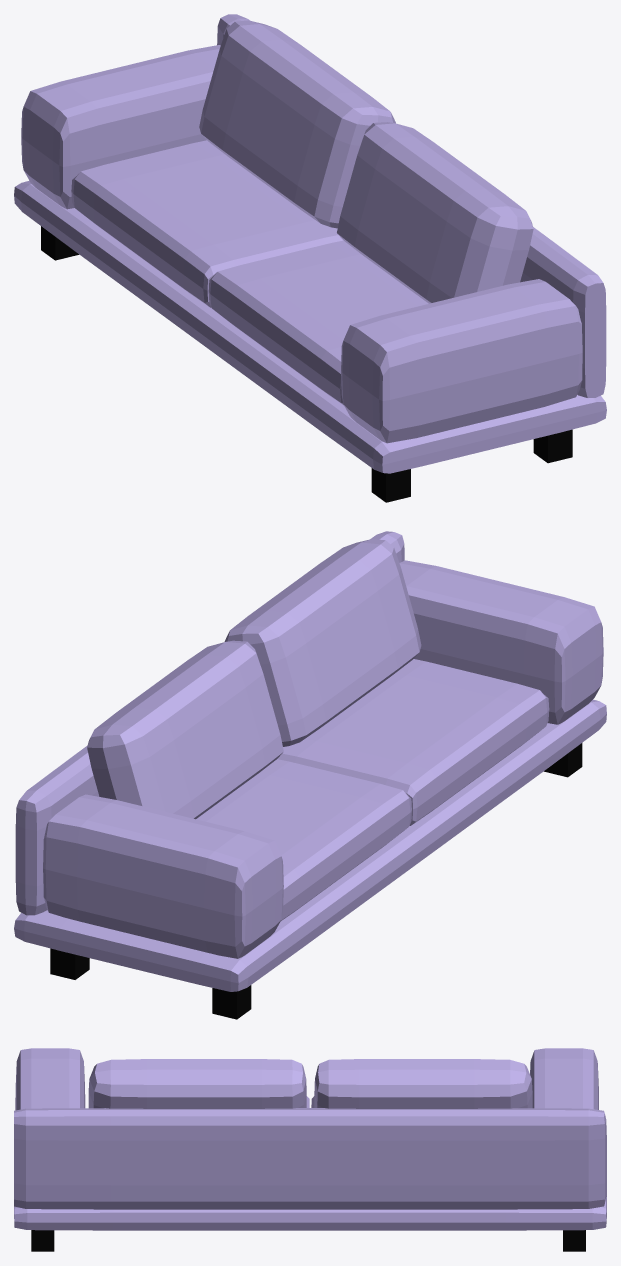
The model's file is sofa.11.12.2023.fbx.
3 renders of one model, top to bottom at view 1: azimuth 30°, elevation 25°; view 2: azimuth 150°, elevation 25°; view 3: azimuth 270°, elevation 25°, orthographic. The views are drawn at different scales.
Visible parts, largest first — view 1: Cube.006, Cube.007, Cube.004, Cube, Cube.005, Cube.003, Cube.002; view 2: Cube.006, Cube.007, Cube.005, Cube, Cube.004, Cube.003, Cube.002; view 3: Cube.003, Cube.006, Cube, Cube.004, Cube.005, Cube.002.
Part boxes in pixels (box(x1,y1,x2,y2)): Cube.006: box(199, 20, 533, 303); Cube.007: box(71, 140, 428, 405); Cube.004: box(341, 279, 582, 443); Cube: box(14, 181, 606, 473); Cube.005: box(21, 45, 220, 209); Cube.003: box(217, 14, 606, 397); Cube.002: box(41, 226, 572, 502); Cube.006: box(87, 539, 421, 819); Cube.007: box(196, 659, 549, 920); Cube.005: box(43, 794, 283, 958); Cube: box(14, 699, 606, 991); Cube.004: box(399, 560, 603, 724); Cube.003: box(15, 531, 404, 915); Cube.002: box(50, 743, 582, 1019); Cube.003: box(14, 1108, 606, 1209); Cube.006: box(88, 1059, 532, 1108); Cube: box(14, 1135, 606, 1230); Cube.004: box(15, 1048, 85, 1110); Cube.005: box(530, 1048, 598, 1109); Cube.002: box(31, 1230, 585, 1251).
Bounding box in the file's own units: 227 × 209 × 628.
